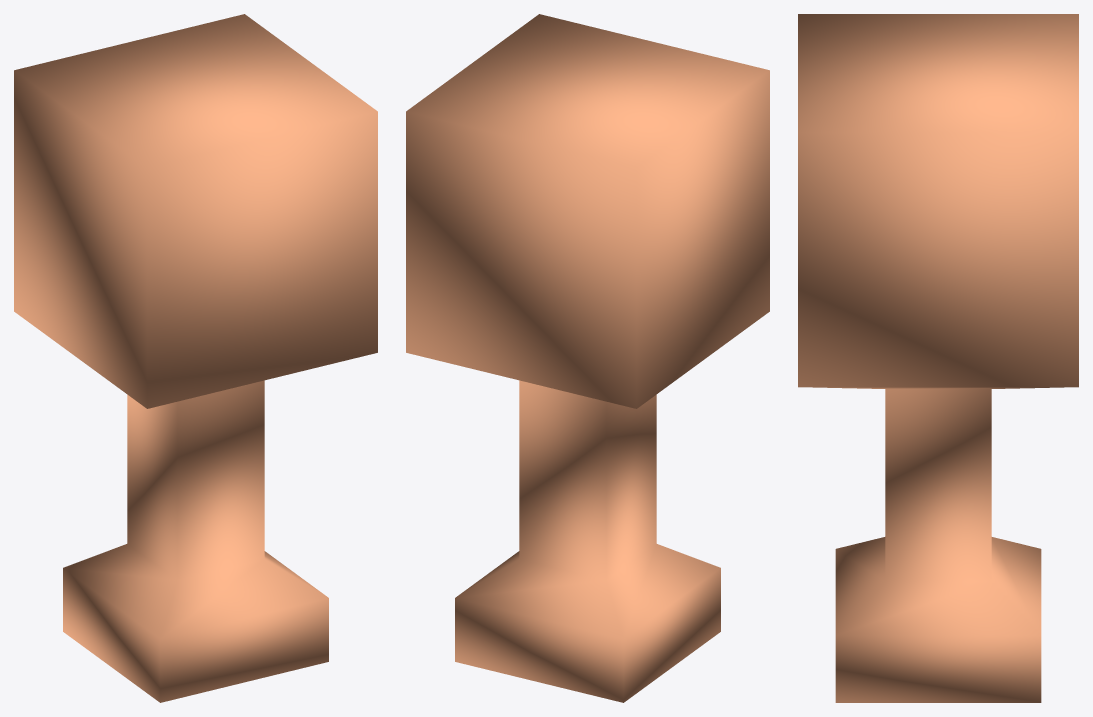
The model's file is Drumstick.glb.
3 renders of one model, left to right at view 1: azimuth 30°, elevation 25°; view 2: azimuth 150°, elevation 25°; view 3: azimuth 270°, elevation 25°, orthographic. The views are drawn at different scales.
Visible parts, largest first — view 1: Cube; view 2: Cube; view 3: Cube.
Boxes of the visible parts, left/top/right/bottom form: Cube: left=14, top=14, right=377, bottom=702; Cube: left=406, top=14, right=769, bottom=702; Cube: left=798, top=14, right=1078, bottom=702.
Size of the model in its own units: 1.79 by 4.12 by 1.79.
1 material, 1 textured.
